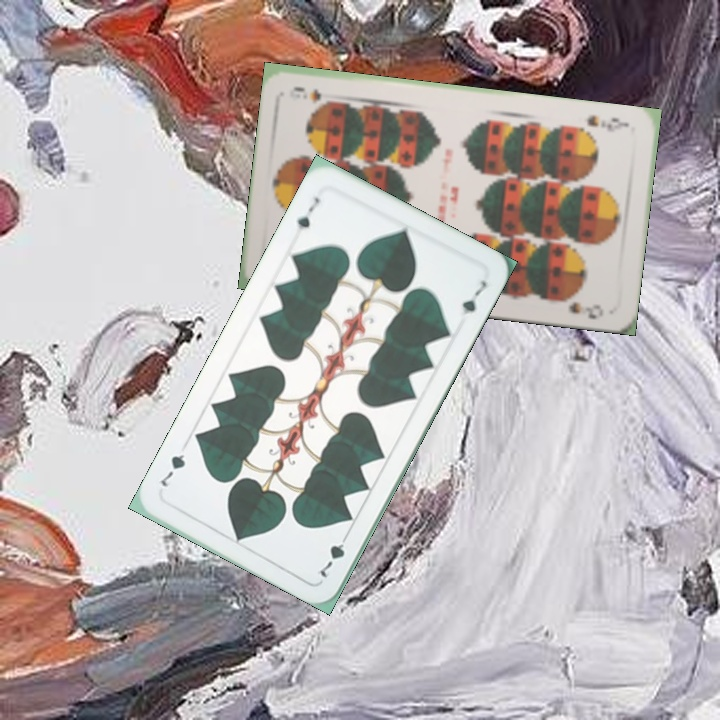G7: (315, 528, 352, 581), (292, 193, 322, 232)
S9: (582, 111, 632, 134)
